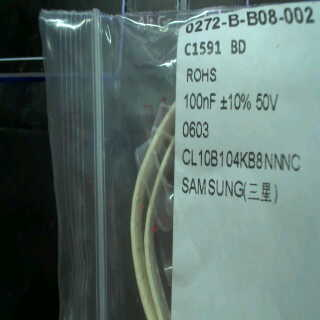100nF: (182, 90, 217, 115)
